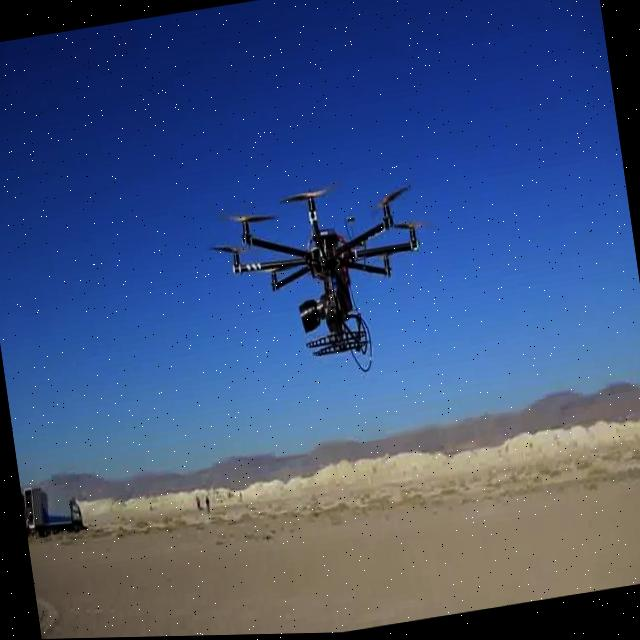drone: (208, 165, 438, 380)
